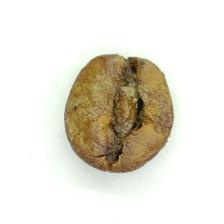NG: (86, 65, 155, 159)
